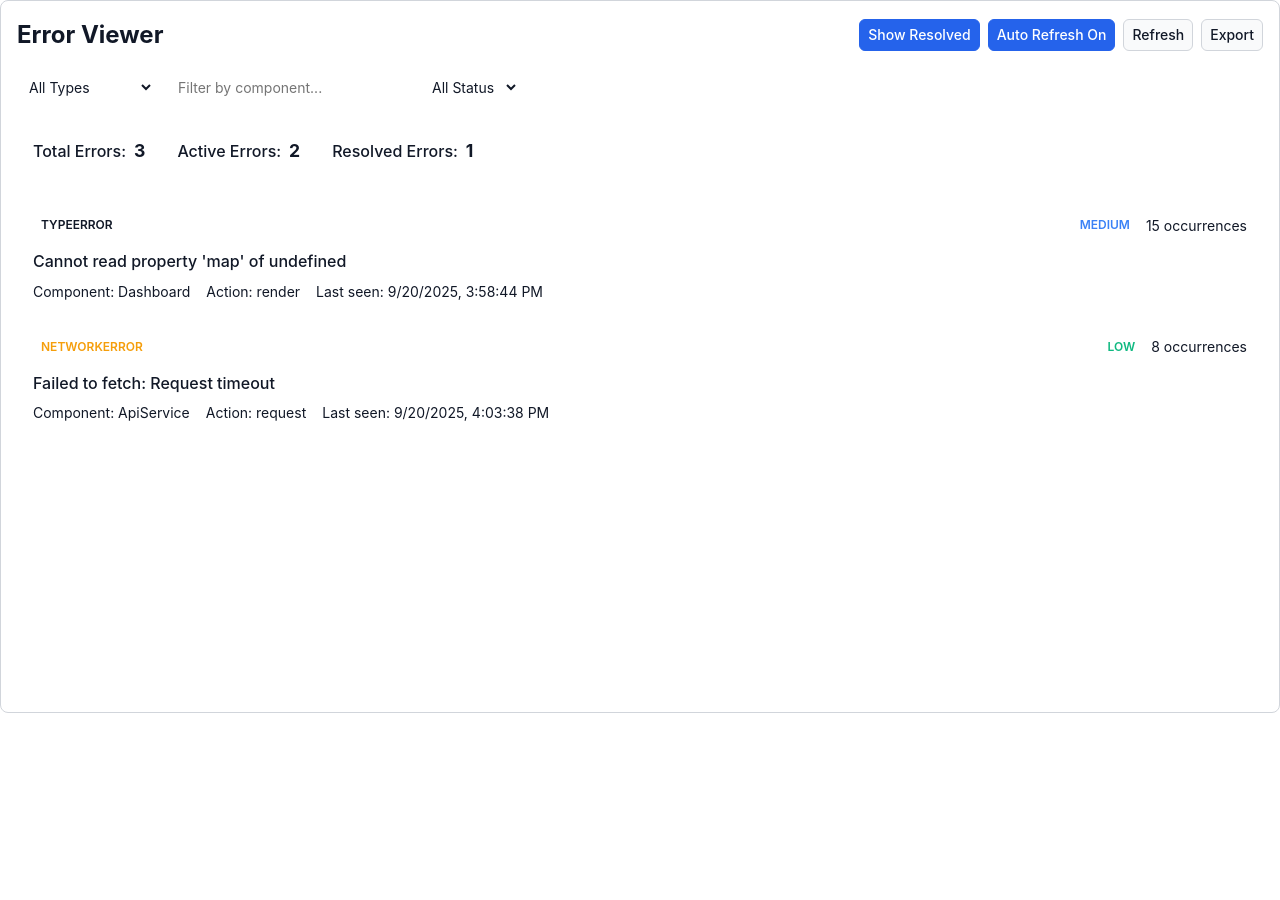
Test: ErrorViewer Component › filters errors by component
Expected: the heading "Error Viewer" is shown, left=17, top=17, right=163, bottom=53
// Filter by component
Type "Dashboard" into the field with placeholder "Filter by component..." at (287, 88), box left=170, top=69, right=404, bottom=106
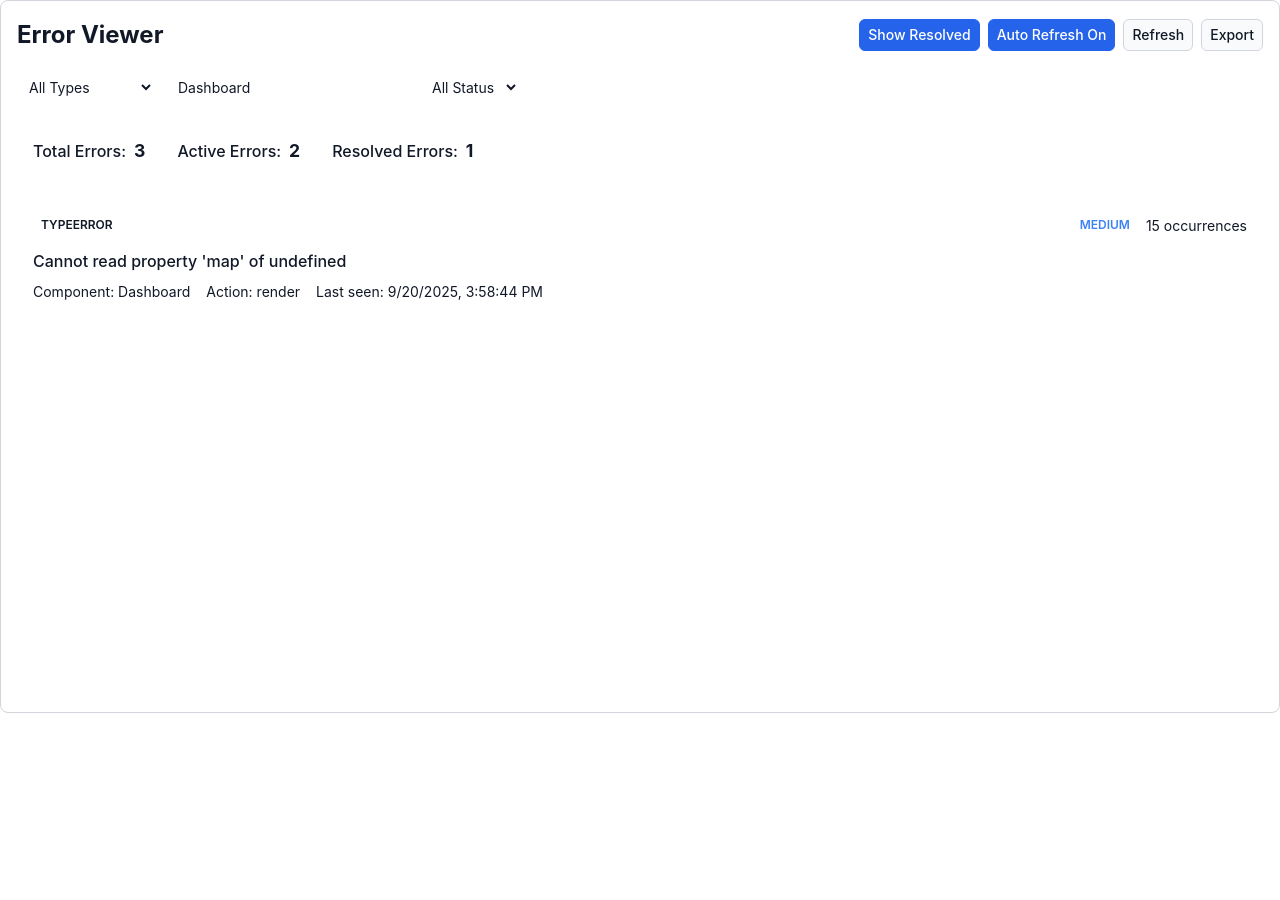
Expected: the text "Cannot read property 'map' of undefined" is shown, left=33, top=251, right=346, bottom=271
Expected: the text "Failed to fetch: Request timeout" is gone
